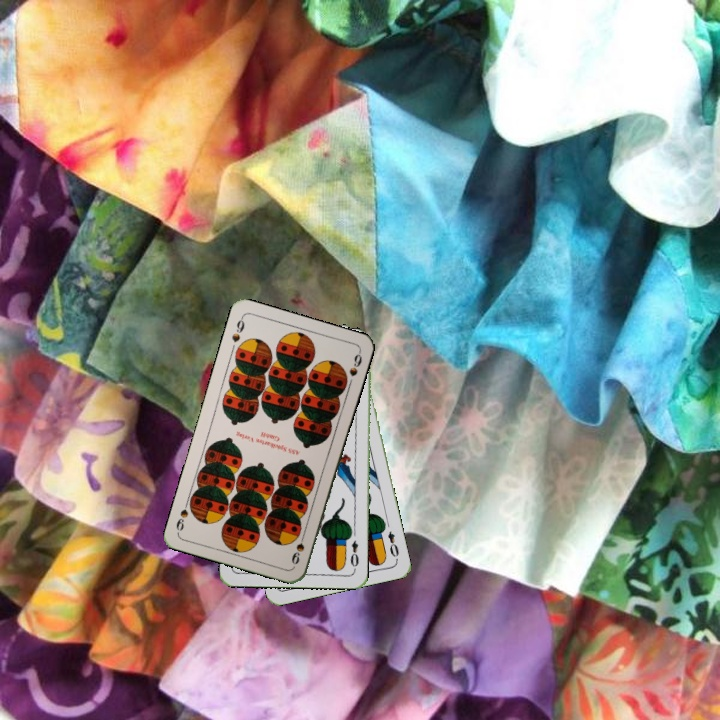EO: (384, 527, 401, 560), (346, 536, 361, 569)
S9: (287, 528, 308, 567), (228, 313, 247, 345)
